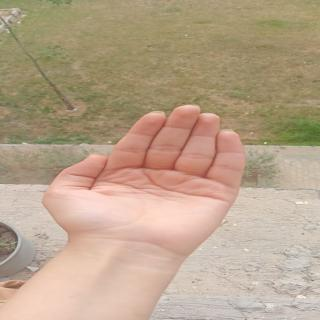SEEN: (37, 100, 269, 248)
